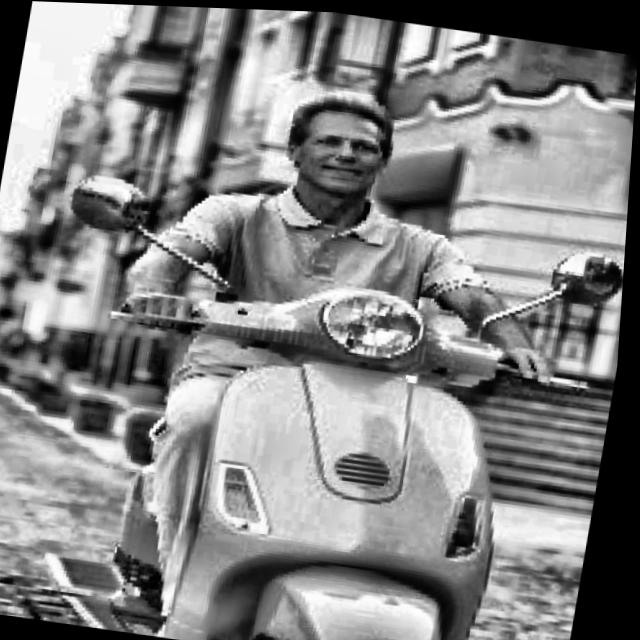motorcycle: (0, 142, 633, 640)
